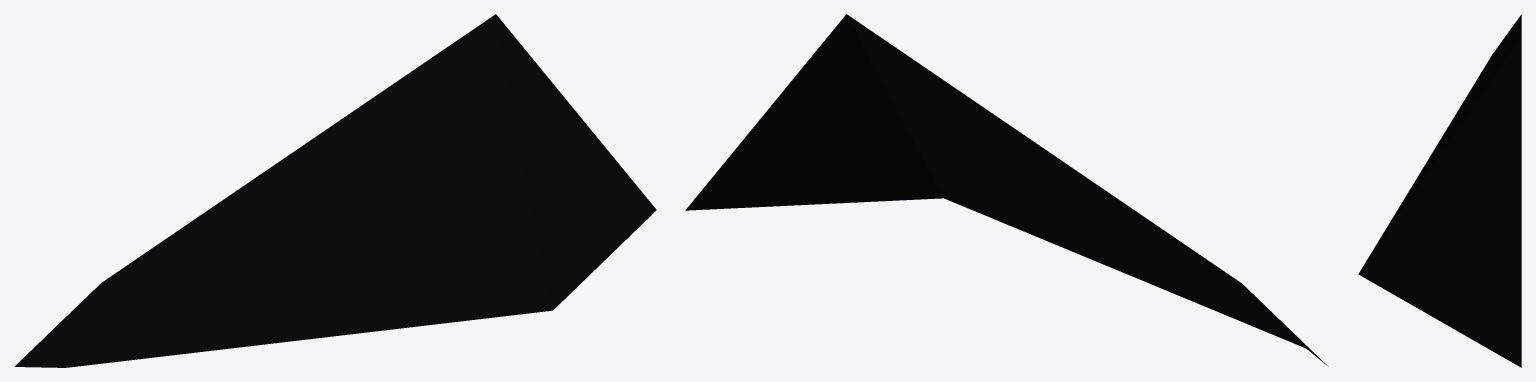
The picture shows the model from 3 angles, left to right: view 1: azimuth 30°, elevation 25°; view 2: azimuth 150°, elevation 25°; view 3: azimuth 270°, elevation 25°; orthographic projection. The views are drawn at different scales.
Bounding box in the file's own units: 0.6128 × 0.2144 × 0.1272.
Materials: 1 (1 with a texture image).
